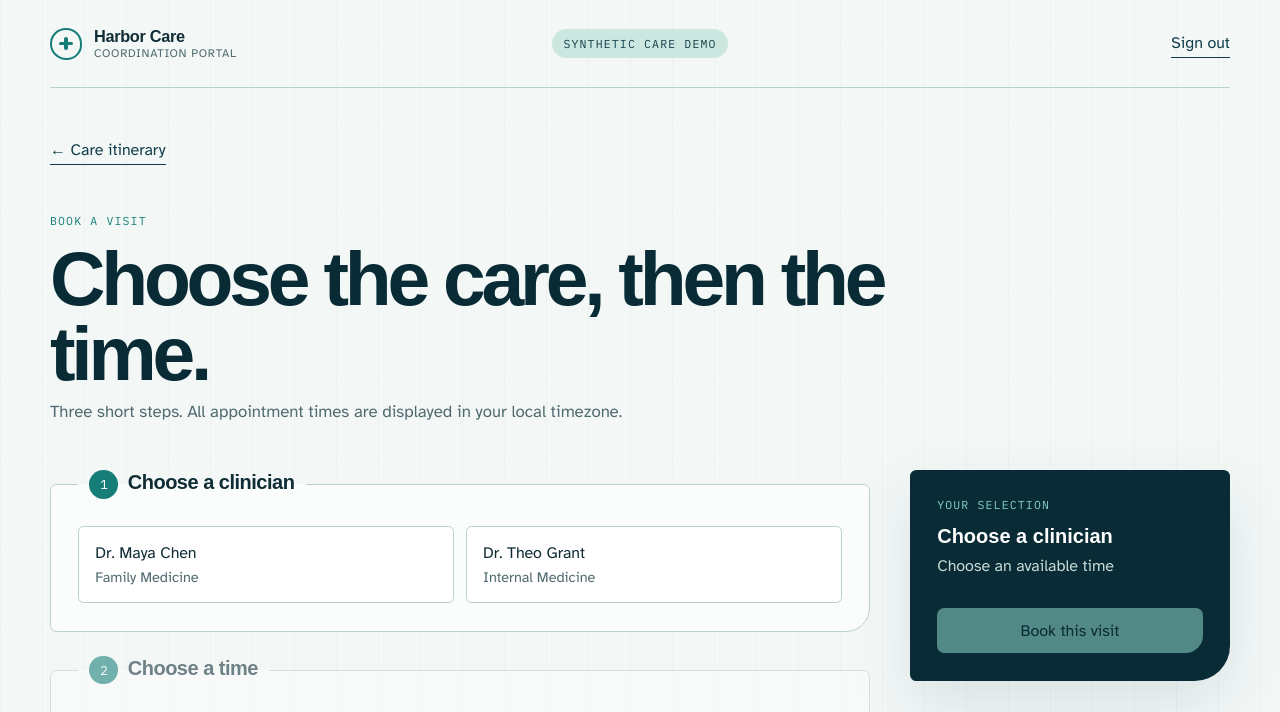
Test case: App › ignores an older availability response after the patient changes clinicians
Click the radio button labelled "Dr. Maya Chen Family Medicine".
click(146, 553)  # box [78, 526, 454, 604]
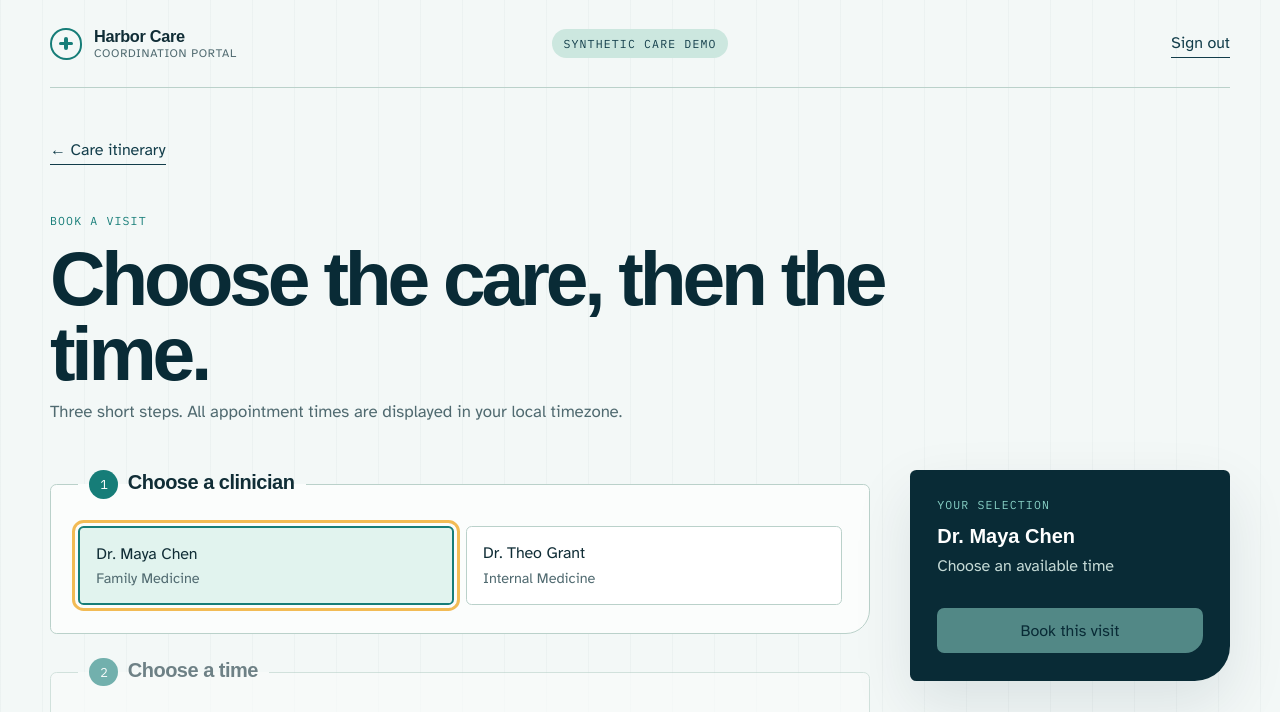
Click the radio button labelled "Dr. Theo Grant Internal Medicine".
click(534, 553)  # box [466, 526, 842, 606]
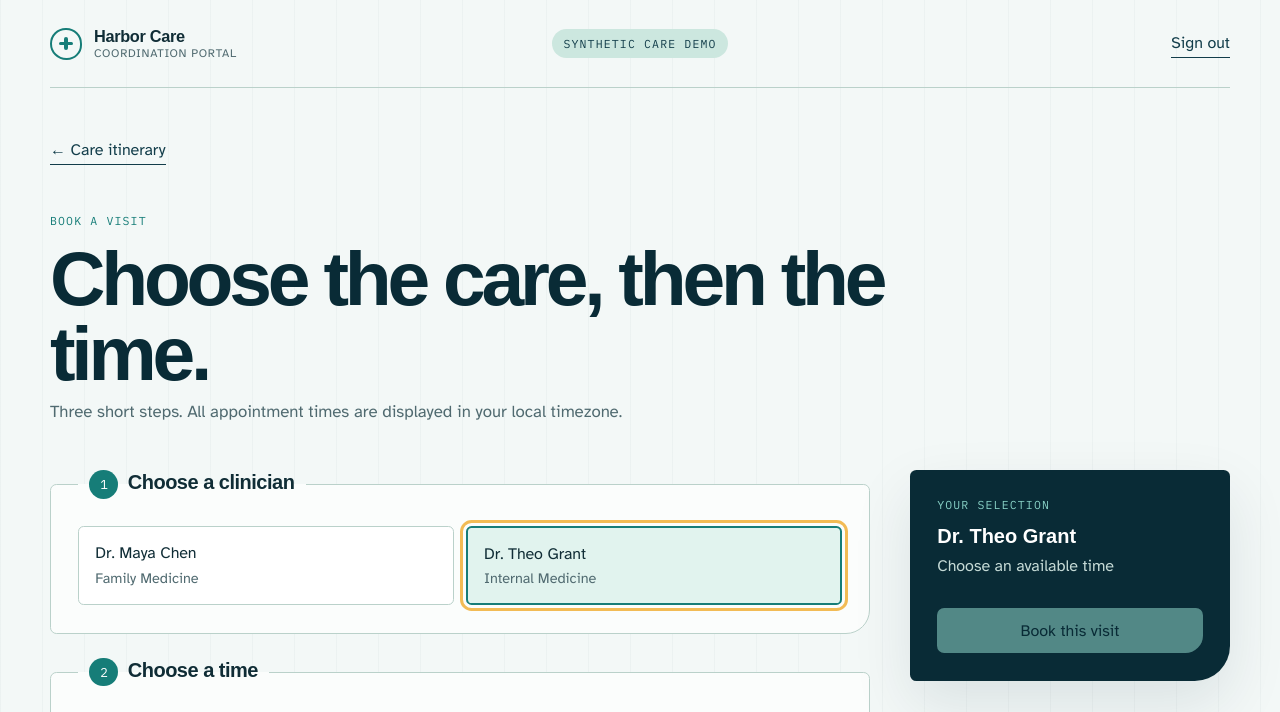
Result: the text "Dr. Theo Grant" below "Your selection" is shown at [937, 525, 1076, 547]
